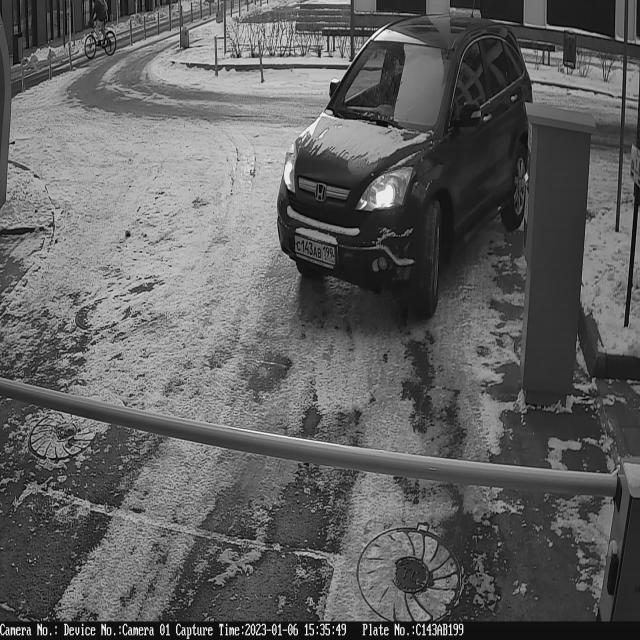car-plate-numbers: (292, 231, 340, 275)
